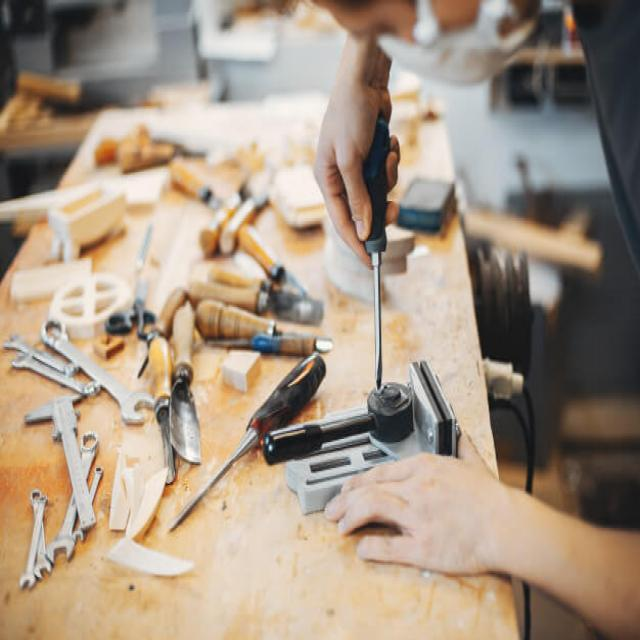screwdriver: (162, 352, 328, 538), (352, 111, 390, 403)
